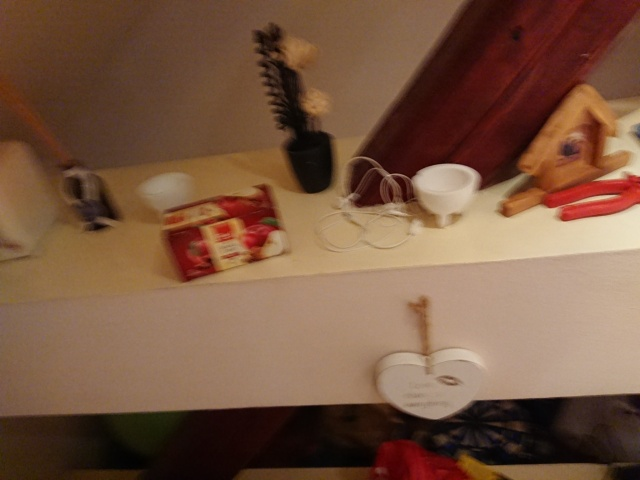Franck Apple Cinnamon Tea 60g: (155, 180, 293, 286)
